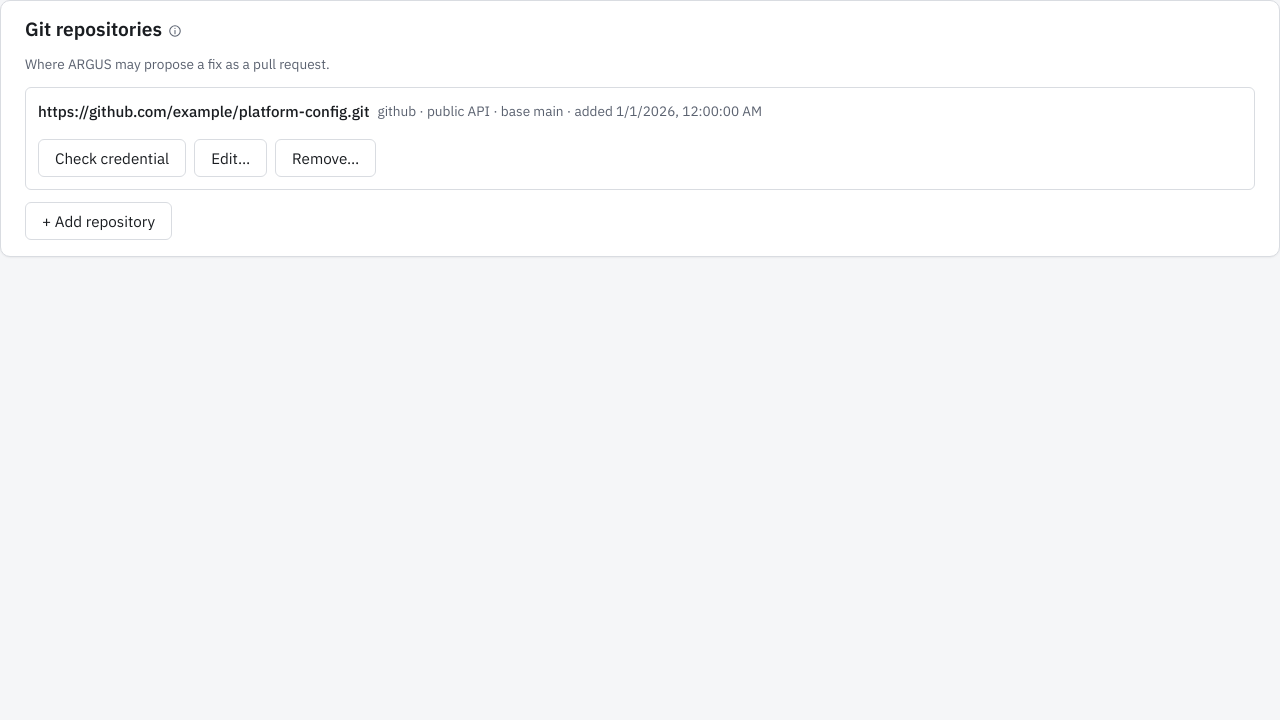
Test case: RepositoriesCard — editing an existing repository › opens an edit dialog pre-filled from the binding, with the provider fixed rather than a dropdown
The image size is (1280, 720).
Click the button "Edit…": point(231, 158) [194,139,267,177]
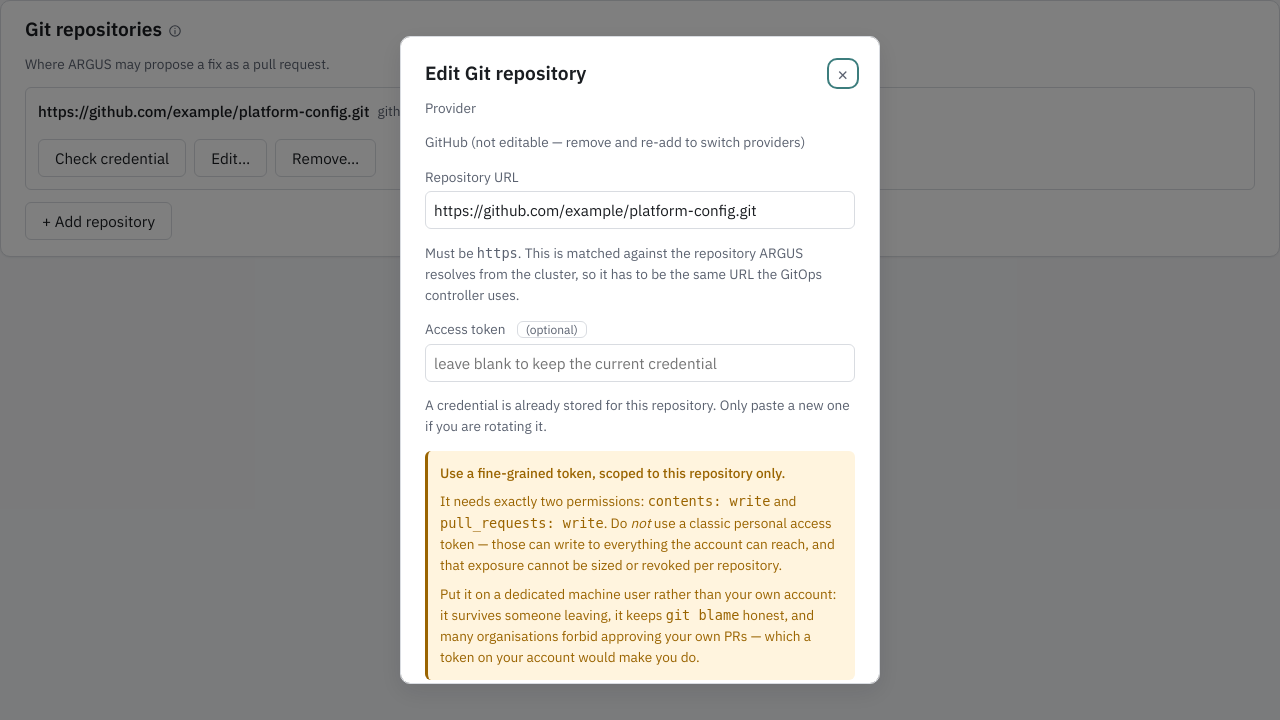
Expected: the heading "Edit Git repository" is shown, [425,61,586,86]
Expected: the field labelled "Repository URL" holds "https://github.com/example/platform-config.git", [425,191,855,229]
Expected: the text "GitHub (not editable — remove and re-add to switch providers)" is shown, [425,132,855,153]
